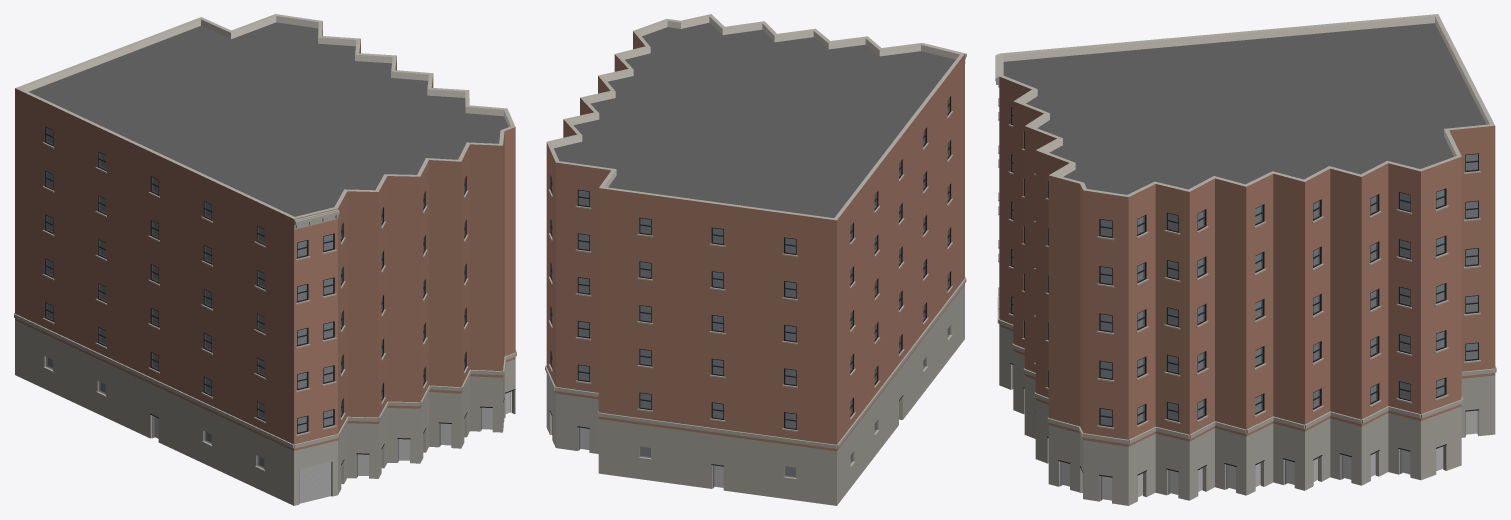
File: exterior.glb
3 renders of one model, left to right at view 1: azimuth 30°, elevation 25°; view 2: azimuth 150°, elevation 25°; view 3: azimuth 270°, elevation 25°, orthographic. The views are drawn at different scales.
Visible parts, largest first — view 1: shell, roof, glazing, trim, shadow-proxy, frames, storefront; view 2: shell, roof, glazing, trim, shadow-proxy, frames; view 3: shell, roof, shadow-proxy, glazing, frames, trim, storefront.
Boxes of the visible parts, x1,y1,x2,y2 form: shell: (15,14,515,505); roof: (28,22,508,216); glazing: (46,127,465,468); trim: (14,142,516,471); shadow-proxy: (47,128,510,475); frames: (44,126,466,434); storefront: (150,389,515,503); shell: (546,14,964,505); roof: (554,23,955,217); glazing: (551,98,949,477); trim: (545,43,966,479); shadow-proxy: (579,190,795,487); frames: (550,96,950,429); shell: (999,14,1495,505); roof: (1003,23,1486,194); shadow-proxy: (1062,154,1477,500); glazing: (1012,108,1477,425); frames: (1010,107,1478,427); trim: (995,54,1496,444); storefront: (1010,363,1479,500).
Bounding box in the file's own units: 33.47 × 26.14 × 38.47.
